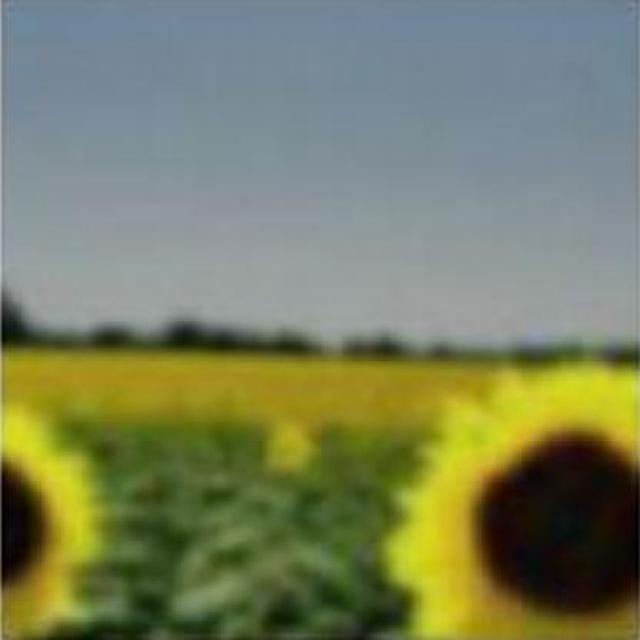sunflower: (391, 371, 640, 640), (0, 401, 97, 640)
